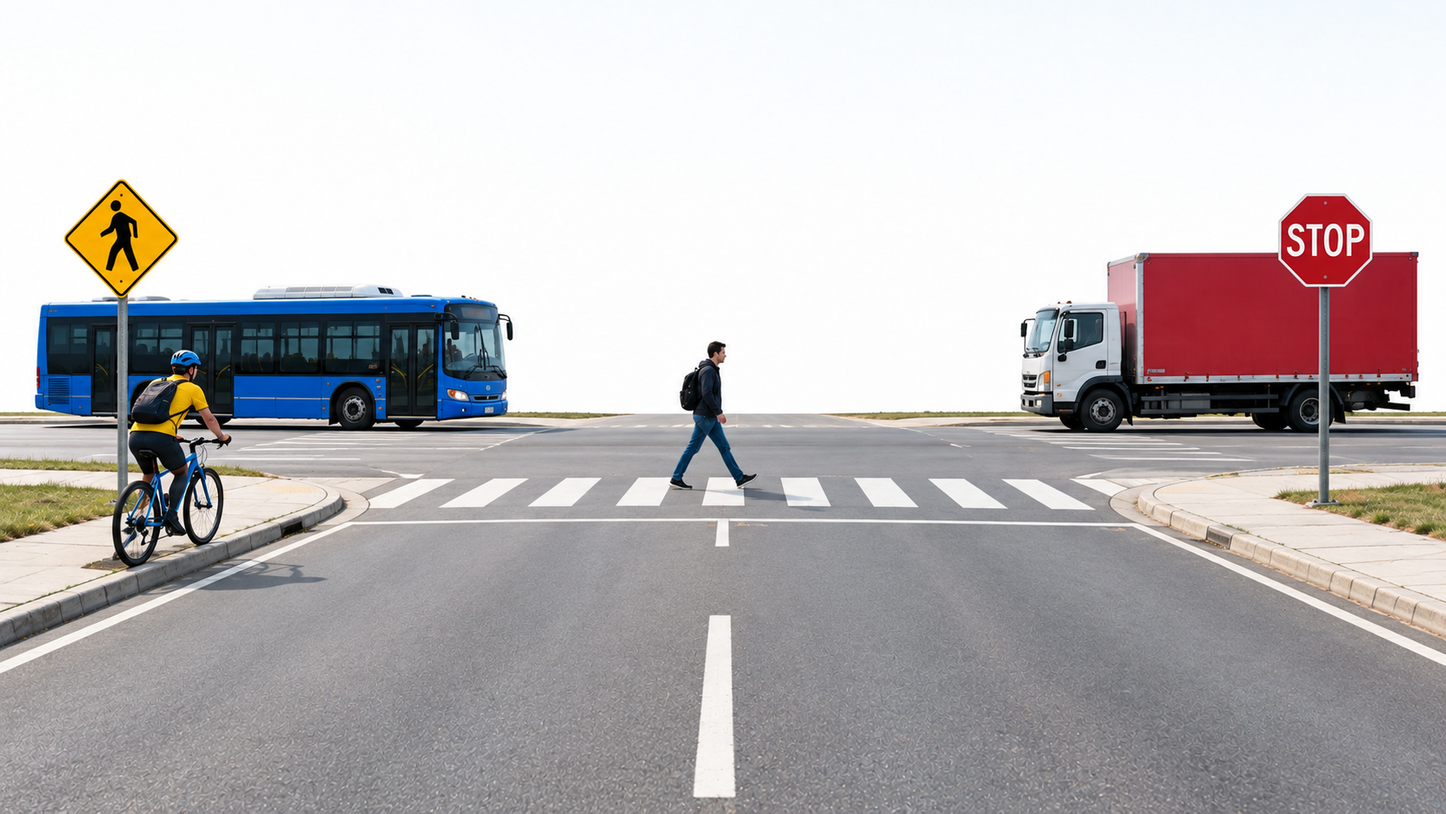bicycle: (111, 410, 230, 565)
bus: (35, 284, 515, 435)
crossing_warning_sign: (64, 179, 180, 298)
person: (126, 349, 231, 516), (668, 340, 759, 492), (449, 344, 483, 396)
stop_sign: (1278, 193, 1374, 290)
truck: (1019, 251, 1421, 438)
zebra_crossing: (371, 470, 1209, 525)
